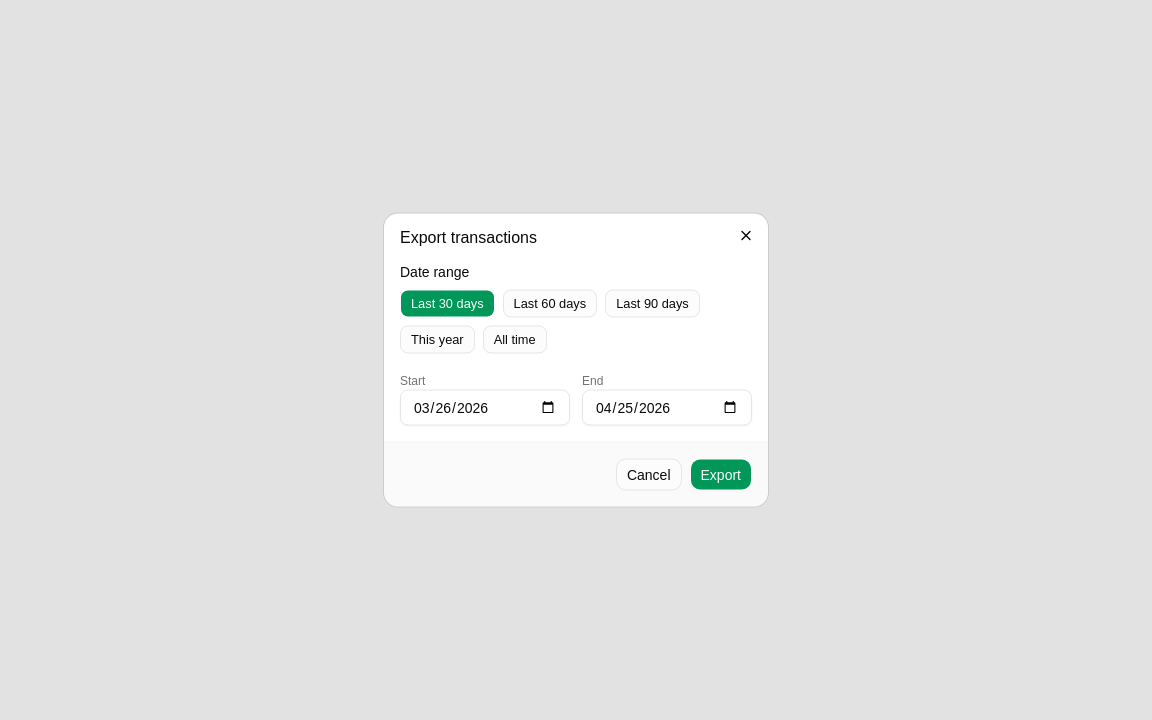
Scenario: ExportTransactionsDialog › updates the date inputs when a different preset is clicked
Click the button "Last 60 days": (550, 304) [503,290,597,318]
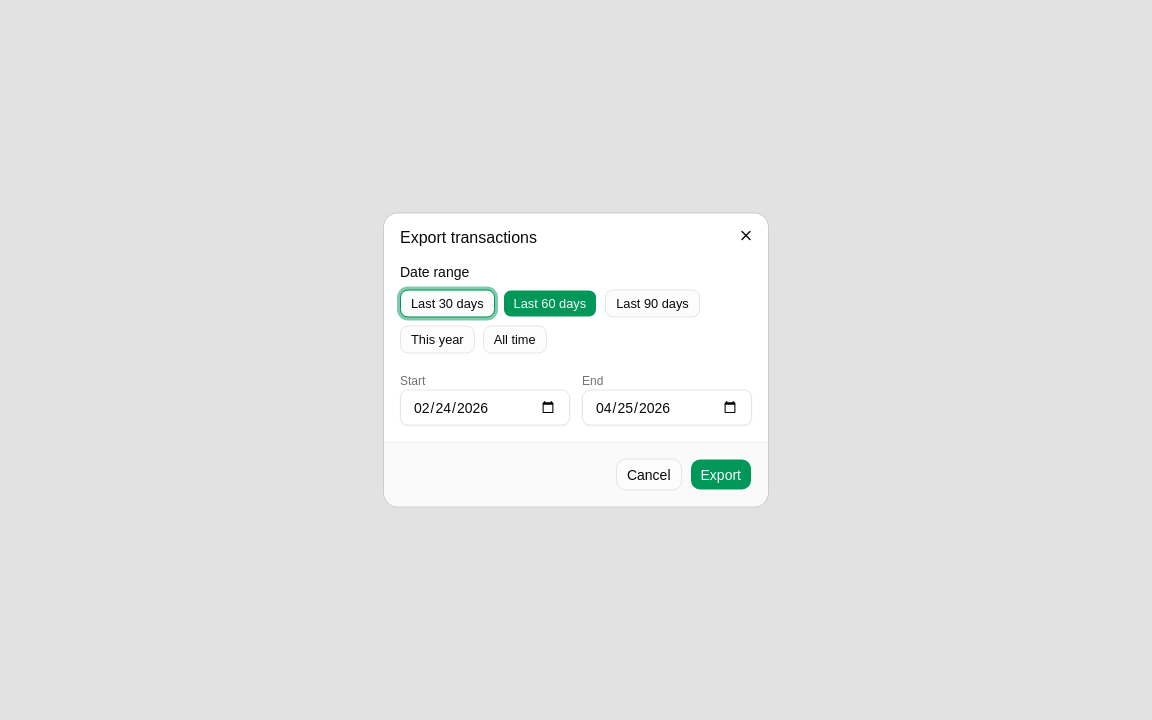
Expected: the date field labelled "Start" holds "2026-02-24", [400,390,570,426]
